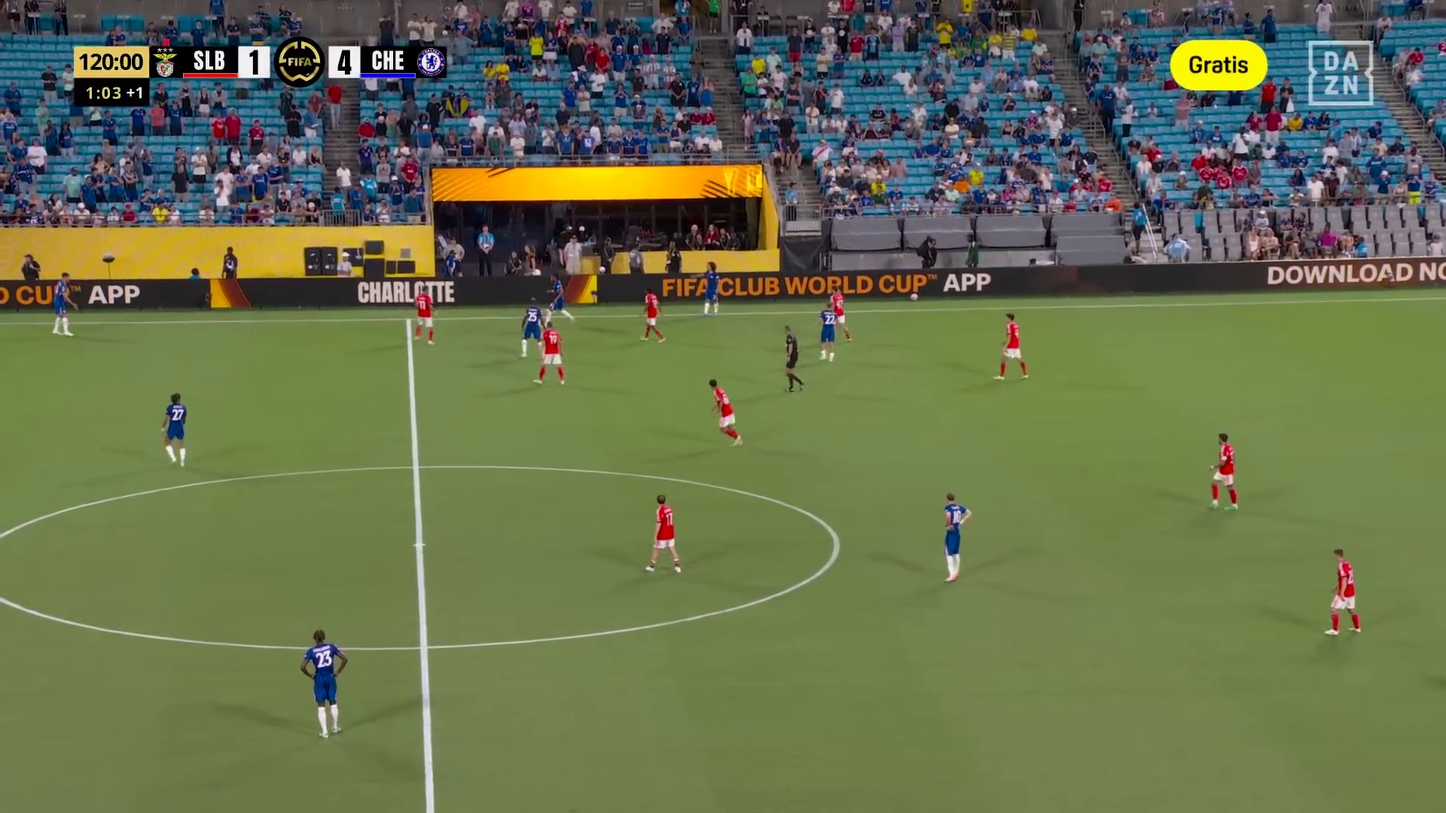ball: (908, 294, 921, 302)
player: (297, 628, 353, 741), (1321, 547, 1365, 639), (641, 492, 686, 578), (937, 491, 974, 584), (704, 377, 747, 448), (1205, 431, 1242, 511), (991, 311, 1032, 383), (156, 392, 194, 468), (533, 321, 570, 388), (47, 270, 78, 338), (778, 325, 808, 394), (409, 285, 441, 346), (516, 297, 546, 360), (542, 274, 577, 326), (637, 288, 668, 345), (814, 302, 839, 364), (698, 262, 725, 319), (829, 287, 854, 341)
referee: (778, 325, 808, 394)
